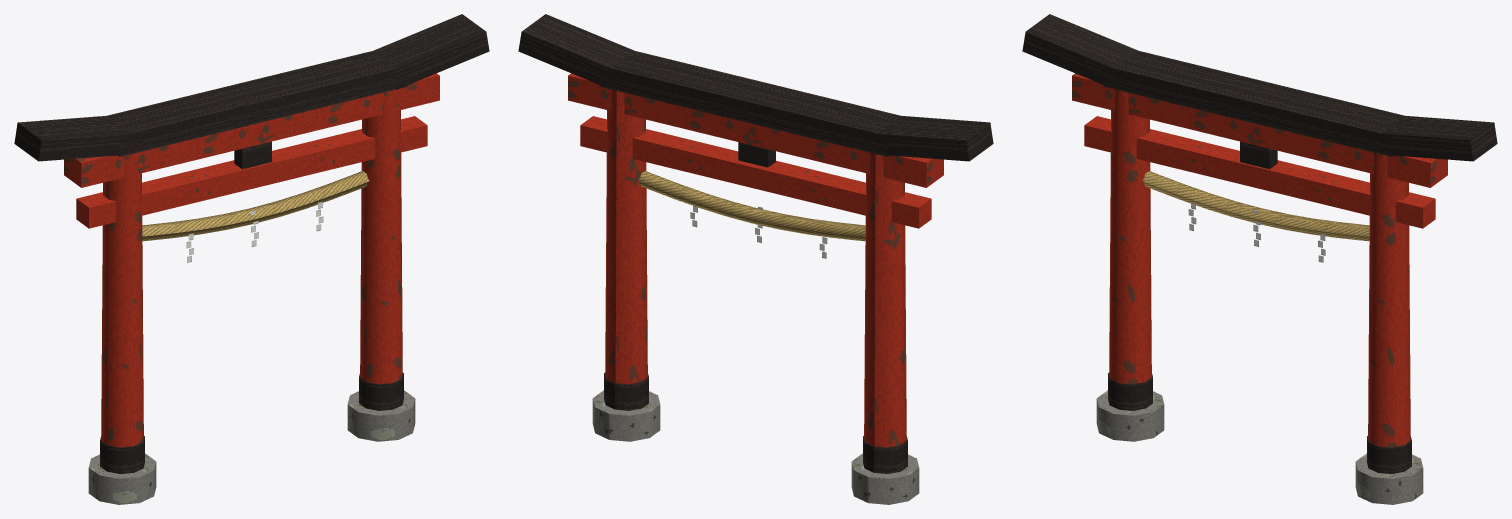
Rendered from prop_torii.glb.
3 renders of one model, left to right at view 1: azimuth 30°, elevation 25°; view 2: azimuth 150°, elevation 25°; view 3: azimuth 330°, elevation 25°, orthographic.
Parts seen in each view (by area): view 1: prop_torii; view 2: prop_torii; view 3: prop_torii.
Boxes of the visible parts, x1,y1,x2,y2 form: prop_torii: [14, 14, 489, 504]; prop_torii: [518, 14, 993, 504]; prop_torii: [1022, 14, 1497, 504].
Size of the model in its own units: 4.53 by 3.66 by 0.6.
Materials: 5 (5 with a texture image).
